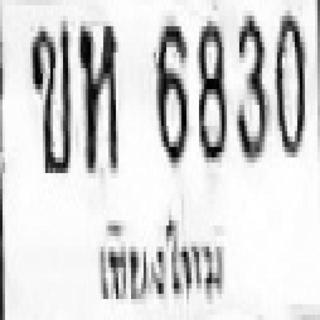A02: (28, 21, 71, 173)
A41: (78, 21, 116, 168)
N00: (273, 10, 304, 152)
N03: (234, 11, 267, 158)
N06: (154, 16, 186, 157)
N08: (197, 16, 224, 157)
P11: (86, 207, 230, 301)
